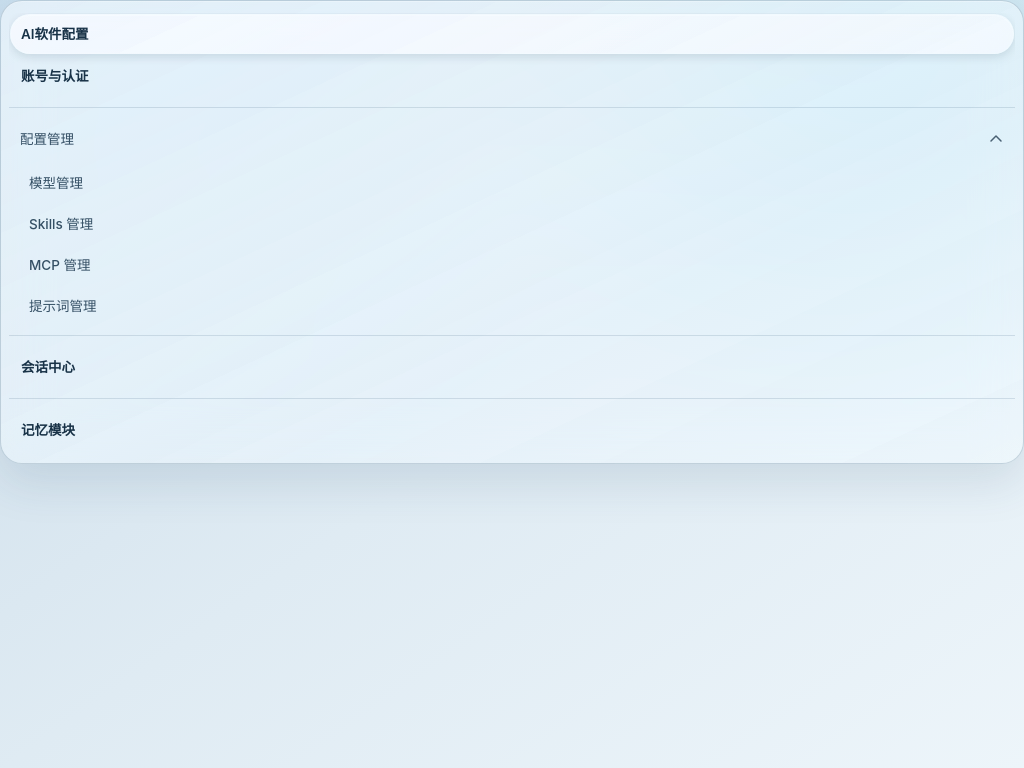
Test case: SideNavigation › supports expand, collapse, and vertical keyboard focus
Expected: the list with test id "configuration-management-items" is shown, [29, 175, 96, 314]
Click the button "配置管理" at point(47, 139), box [9, 118, 1015, 160]
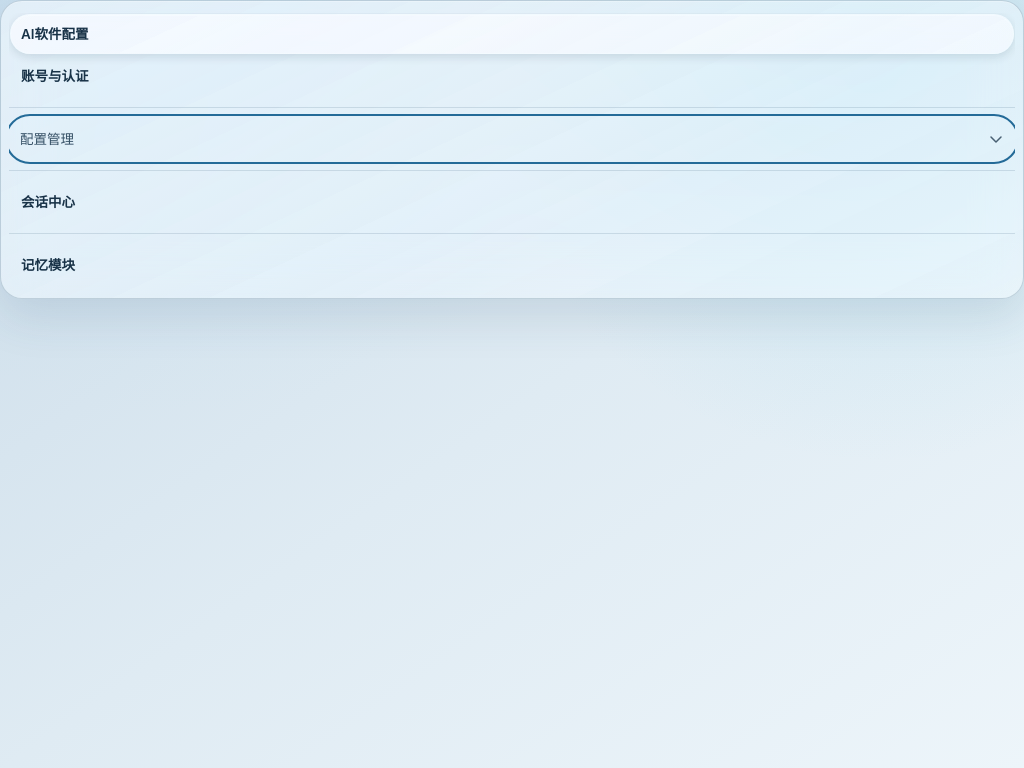
Now the button "配置管理" is collapsed, box [9, 118, 1015, 160]
Now the list with test id "configuration-management-items" is gone
Now the link "模型管理" is gone
Press Arrowright
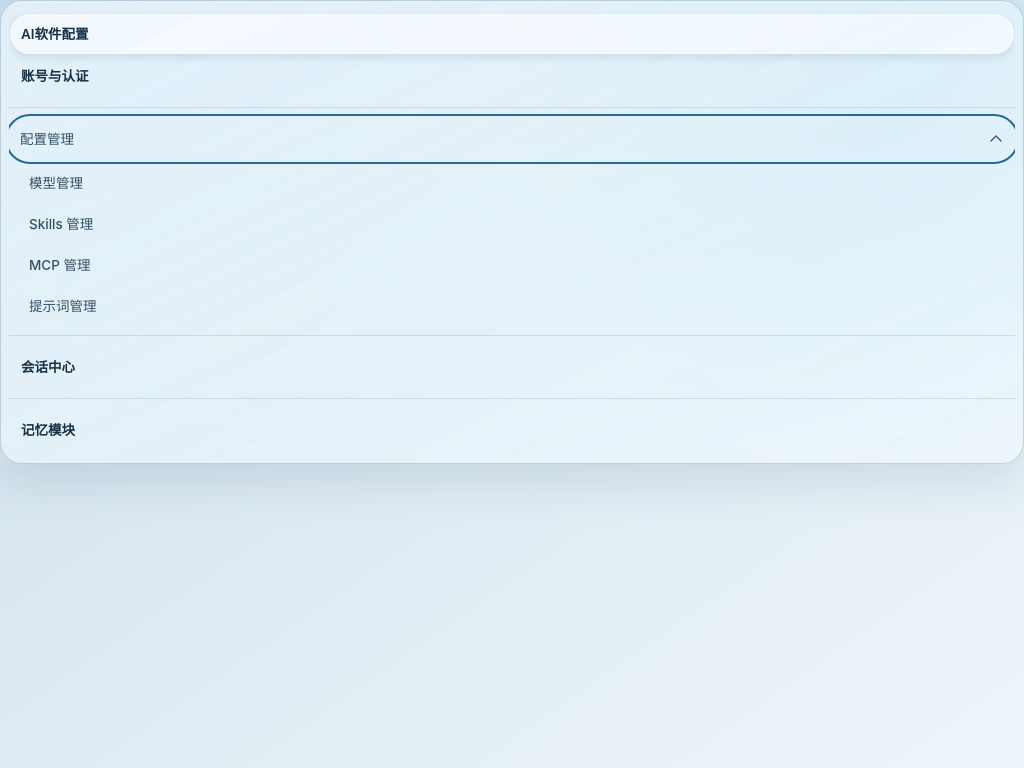
Now the button "配置管理" is expanded, box [9, 118, 1015, 160]
Press Arrowright
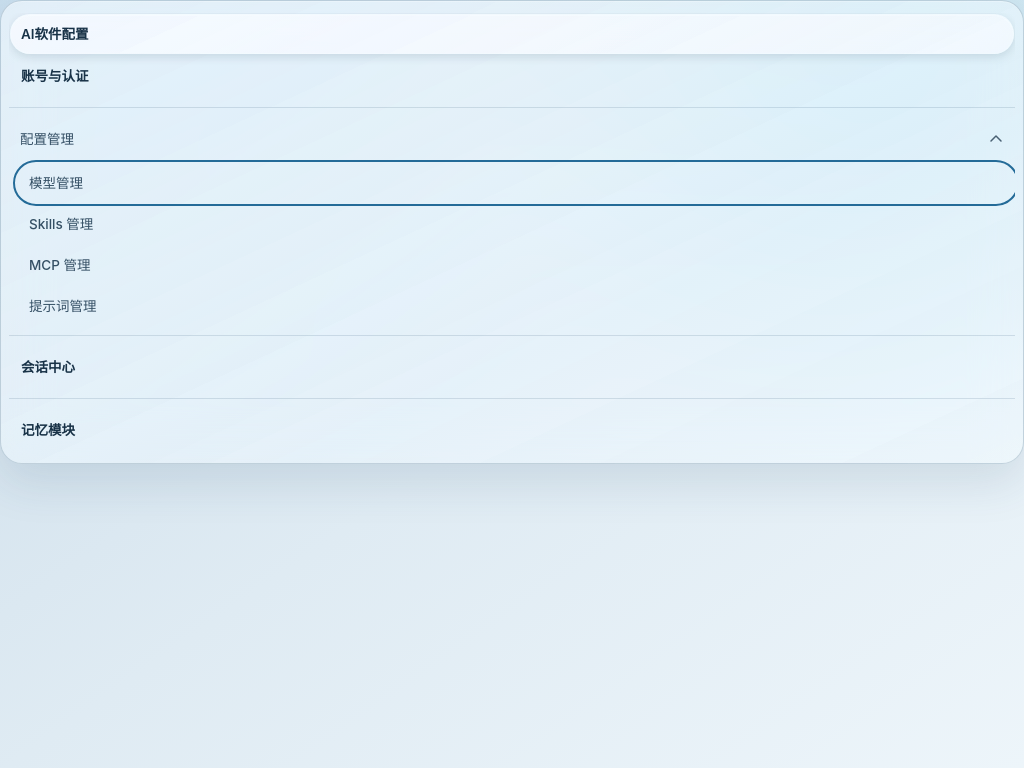
Press Arrowdown
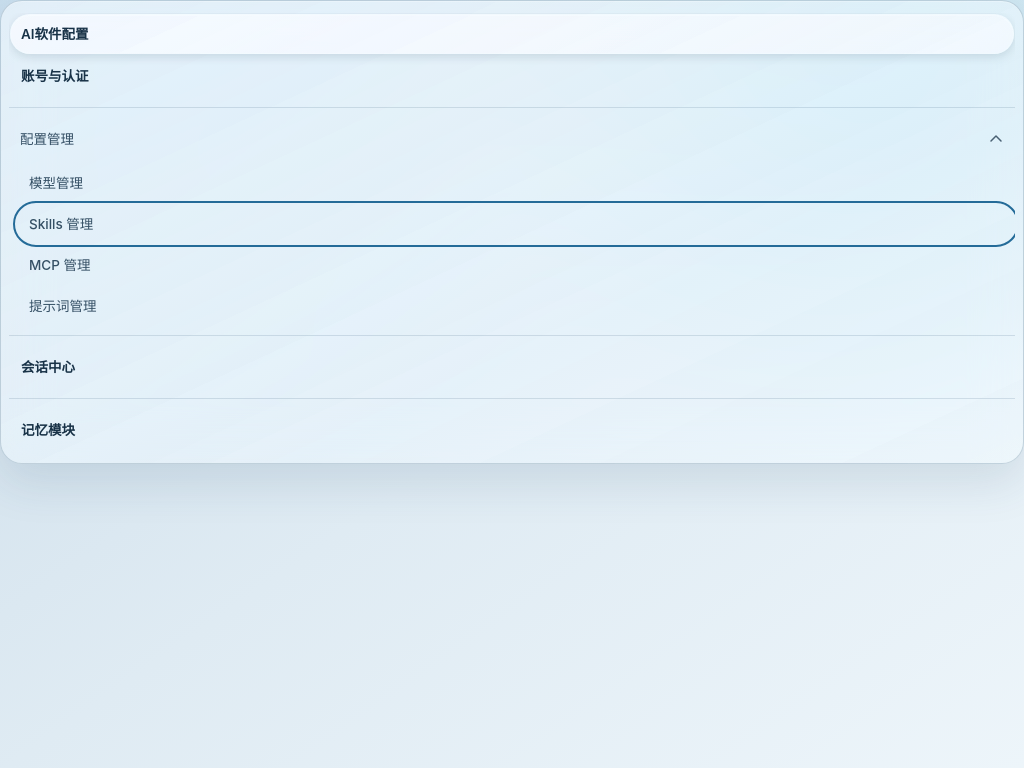
Press Escape
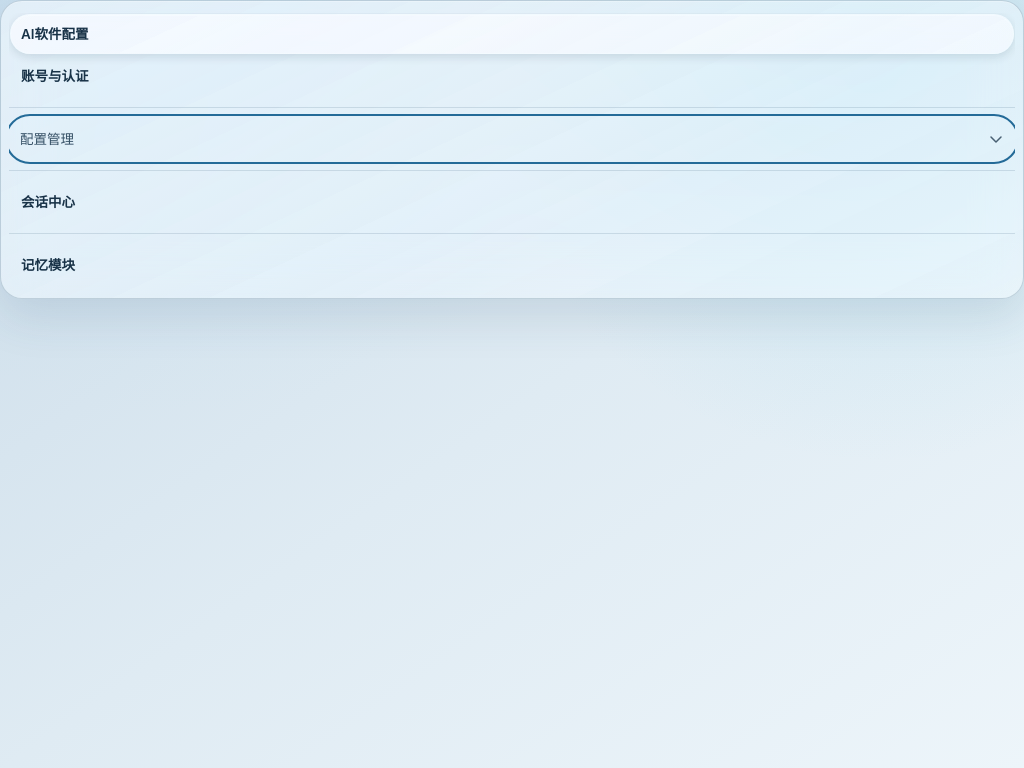
Now the button "配置管理" is collapsed, box [9, 118, 1015, 160]
